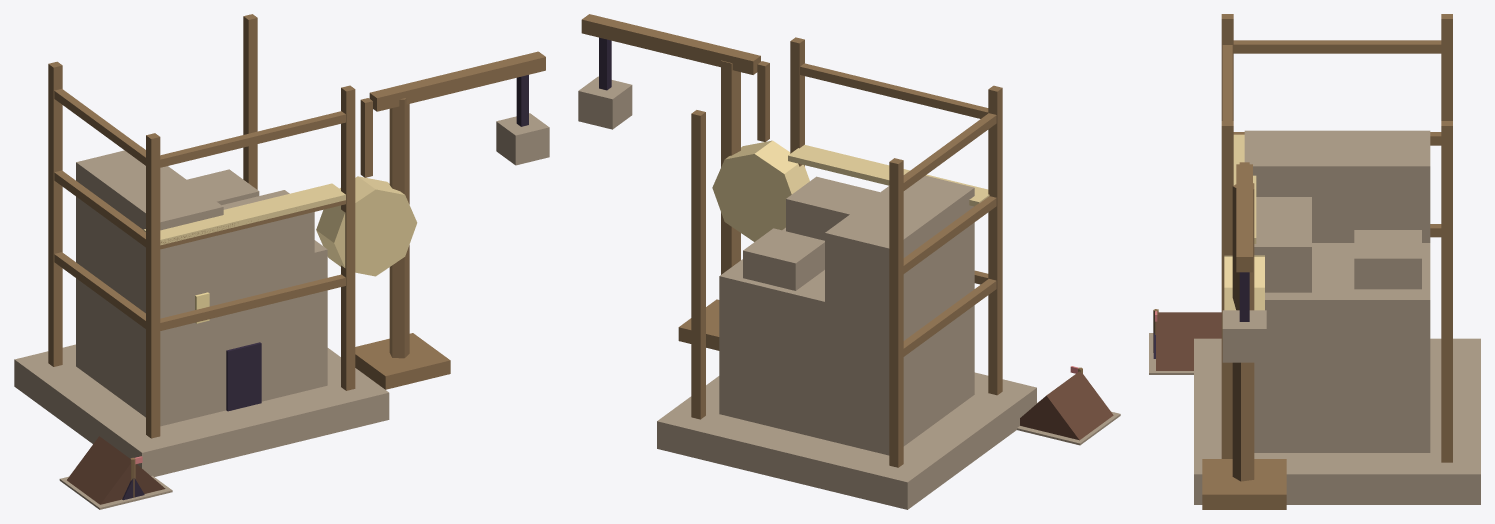
The model's file is medieval-build-2.glb.
3 views of the same model, side by side, from view 1: azimuth 30°, elevation 25°; view 2: azimuth 150°, elevation 25°; view 3: azimuth 270°, elevation 25° (orthographic). The views are drawn at different scales.
Parts seen in each view (by area): view 1: medieval-build-2; view 2: medieval-build-2; view 3: medieval-build-2.
Part boxes in pixels (x1=…): medieval-build-2: x1=14, y1=14, x2=549, y2=509; medieval-build-2: x1=578, y1=14, x2=1120, y2=509; medieval-build-2: x1=1149, y1=14, x2=1480, y2=509.
Size of the model in its own units: 3.73 by 2.4 by 1.97.
